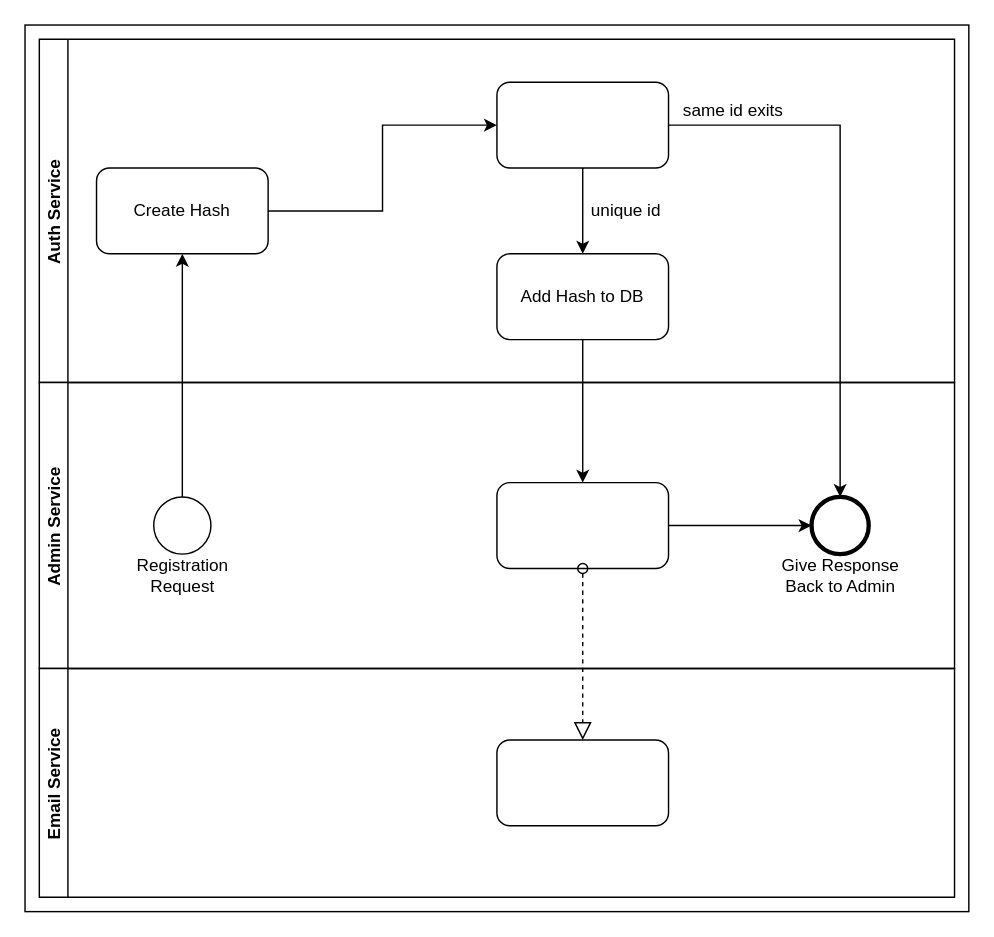
This 994x937 diagram has some shape labels left out. Each missing label, with the centre of its shape:
"Add User data for the project id to DB" belongs at pixel 582 524.
"Check if same id exits" belongs at pixel 582 124.
"Send Verification Mail" belongs at pixel 582 782.
